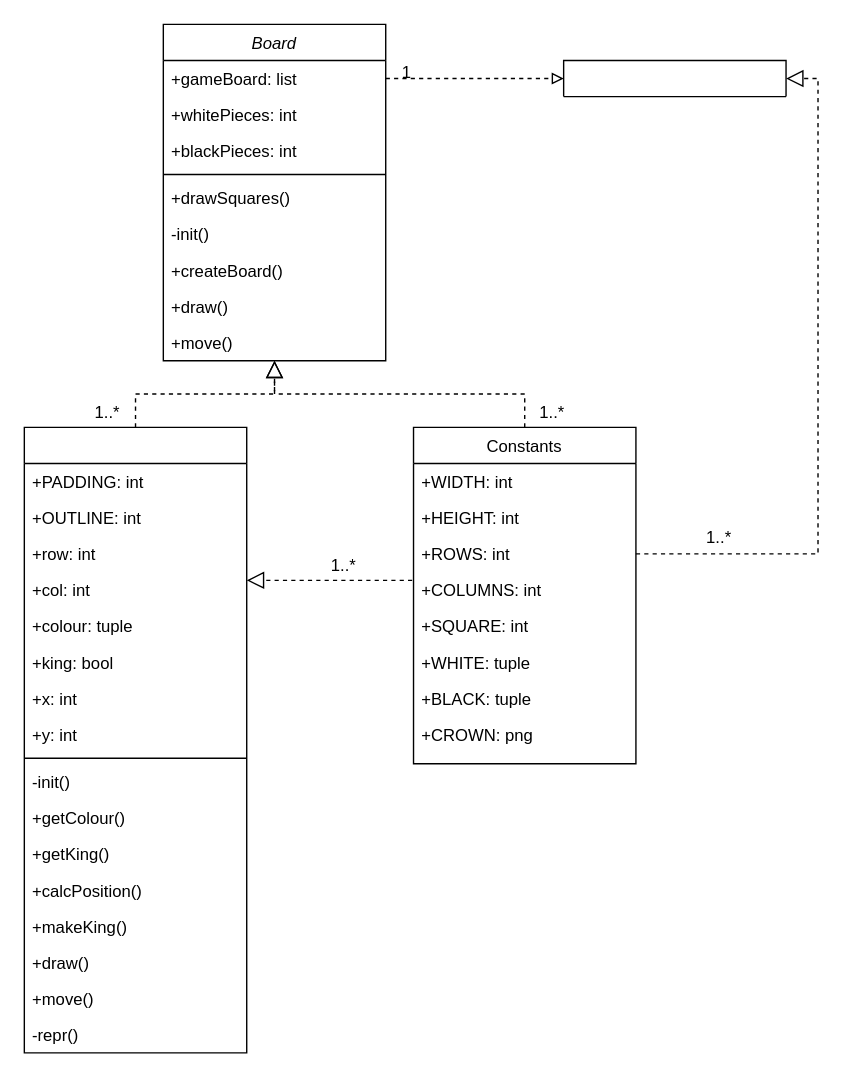
Some shapes in this 859 by 1081 pixel diagram are drawn without their labels. Each missing label, with the box of its shape:
Main: (562, 59, 786, 97)
Piece: (23, 426, 247, 1053)
